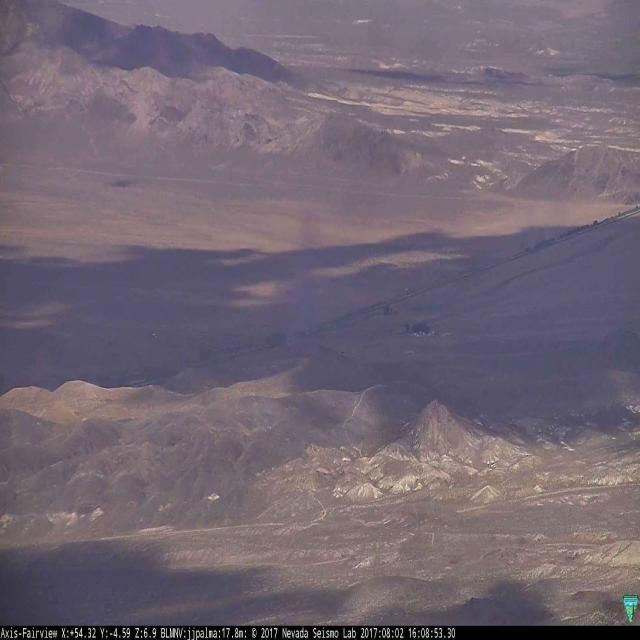smoke: (290, 184, 332, 350)
